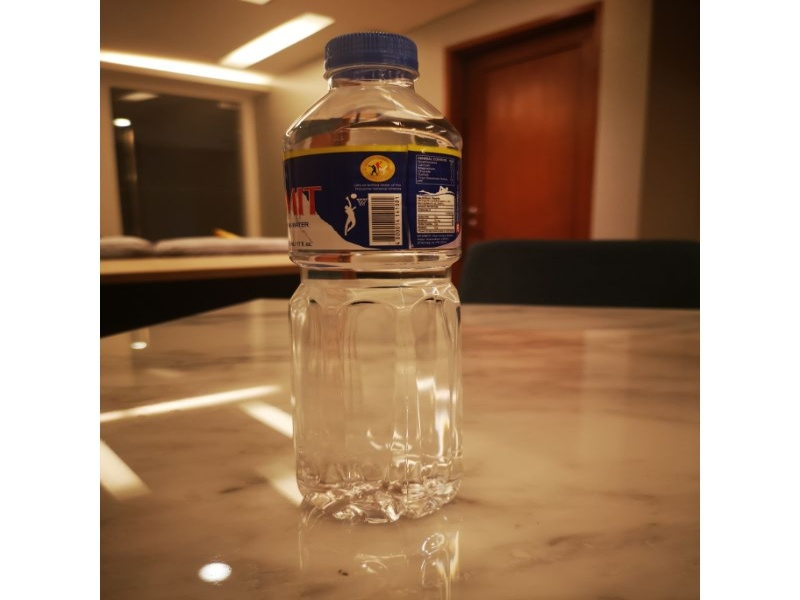PET #1: (275, 33, 478, 529)
